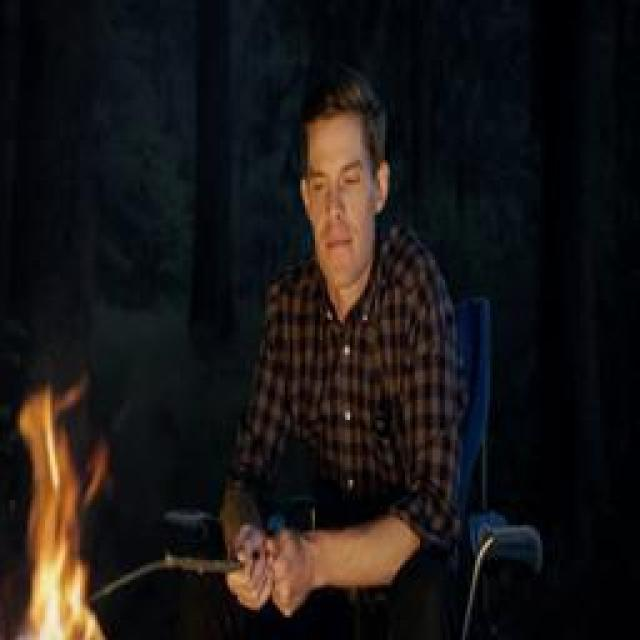Fire: (12, 372, 112, 640)
